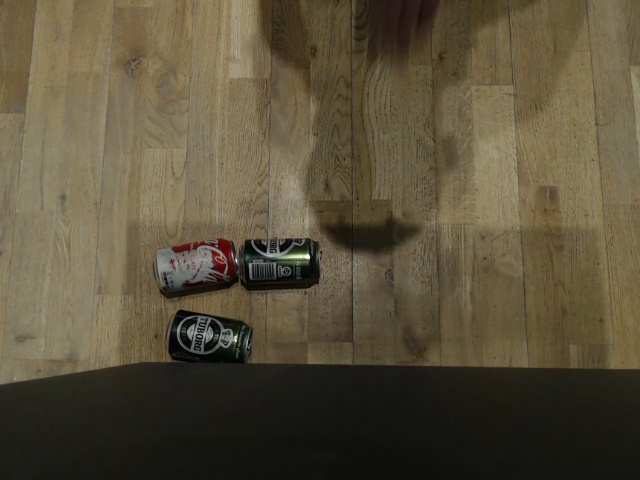beer: (239, 231, 327, 292), (160, 310, 255, 364)
cola: (133, 233, 226, 295)
